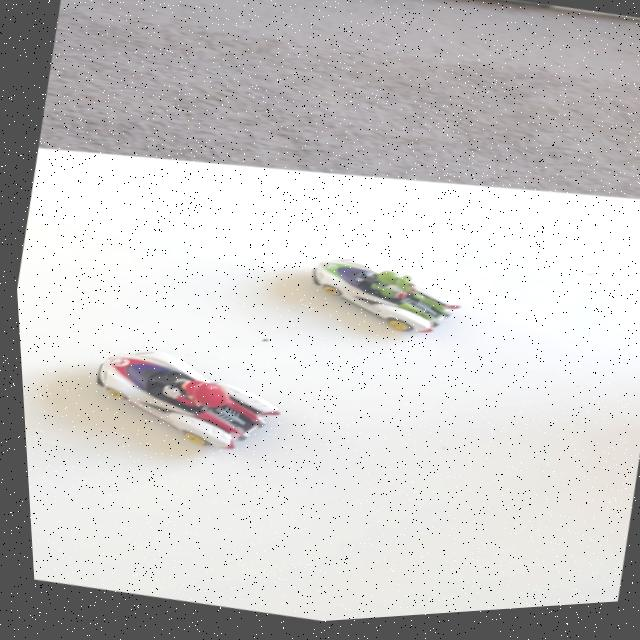mario: (60, 327, 305, 477)
yoshi: (281, 243, 478, 362)
